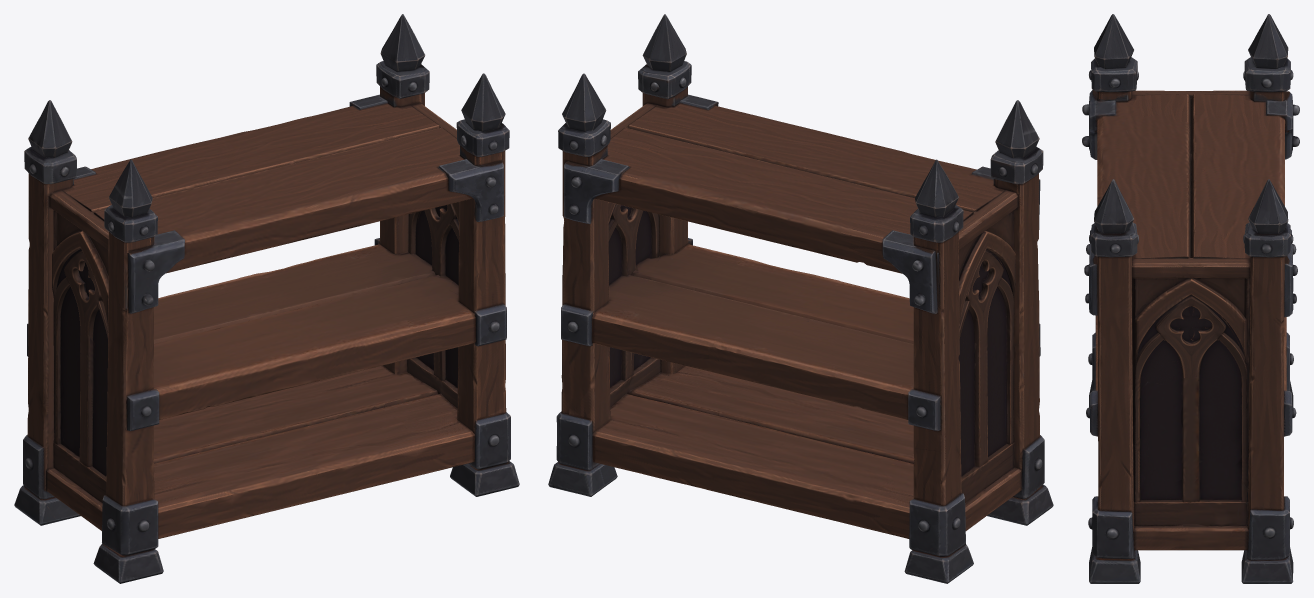
The model's file is PR_Shelf_Up.fbx.
The picture shows the model from 3 angles, left to right: view 1: azimuth 30°, elevation 25°; view 2: azimuth 150°, elevation 25°; view 3: azimuth 270°, elevation 25°; orthographic projection. The views are drawn at different scales.
Visible parts, largest first — view 1: Mesh_0; view 2: Mesh_0; view 3: Mesh_0.
Part boxes in pixels (bbox=[...]): Mesh_0: bbox=[14, 14, 519, 583]; Mesh_0: bbox=[548, 14, 1053, 583]; Mesh_0: bbox=[1082, 14, 1299, 583].
Size of the model in its own units: 190 by 186 by 93.32.
1 material, 1 textured.
